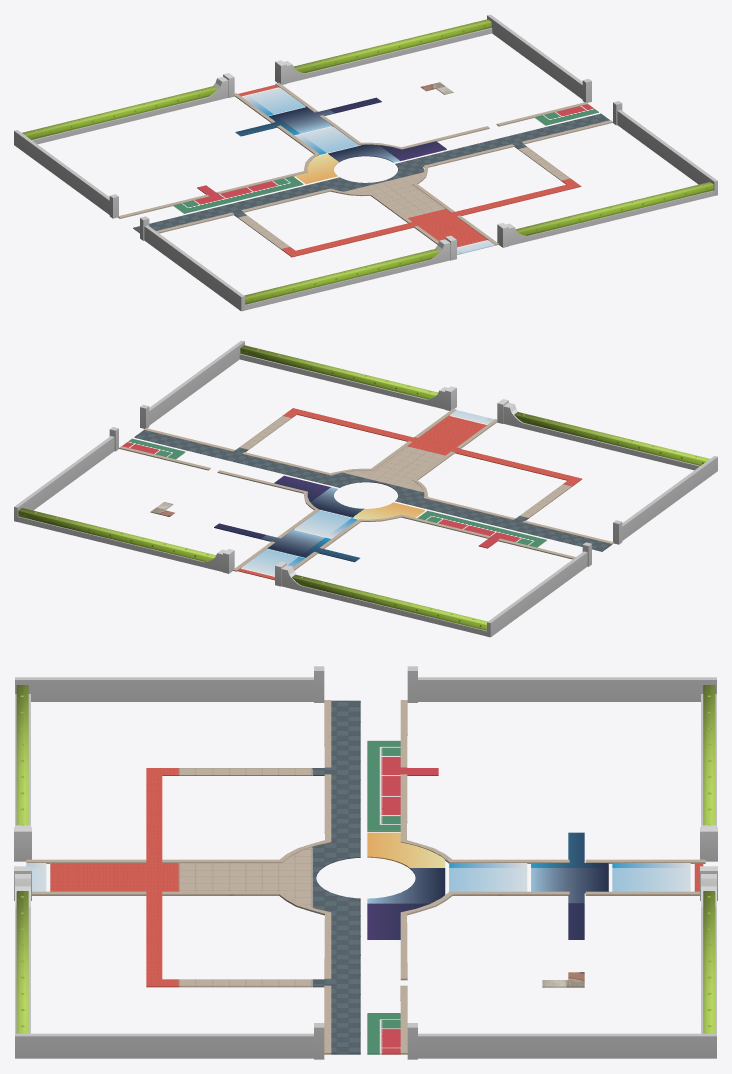
The model's file is Taman.fbx.
The picture shows the model from 3 angles, top to bottom: view 1: azimuth 30°, elevation 25°; view 2: azimuth 150°, elevation 25°; view 3: azimuth 270°, elevation 25°; orthographic projection. The views are drawn at different scales.
Visible parts, largest first — view 1: JalanSetapak, Plane.051, Plane.004, Plane.005, JalanSetapak2, Plane.015, Plane.007; view 2: JalanSetapak, Plane.051, Plane.004, Plane.005, JalanSetapak2, Plane.015, Plane.007; view 3: JalanSetapak, Plane.004, JalanSetapak2, Plane.051, Plane.005, Plane.015, Plane.007.
Boxes of the visible parts, box(x1,y1,x2,y2) form: JalanSetapak: box(133, 82, 609, 257); Plane.051: box(22, 19, 713, 304); Plane.004: box(14, 14, 717, 311); Plane.005: box(32, 28, 714, 310); JalanSetapak2: box(118, 83, 612, 245); Plane.015: box(223, 60, 508, 260); Plane.007: box(109, 78, 622, 240); JalanSetapak: box(122, 408, 611, 580); Plane.051: box(18, 345, 709, 630); Plane.004: box(14, 340, 717, 637); Plane.005: box(17, 354, 699, 636); JalanSetapak2: box(119, 409, 613, 571); Plane.015: box(223, 386, 508, 586); Plane.007: box(109, 404, 622, 566); JalanSetapak: box(26, 700, 703, 1054); Plane.004: box(15, 677, 716, 1058); JalanSetapak2: box(26, 700, 705, 1054); Plane.051: box(16, 685, 715, 1033); Plane.005: box(15, 694, 716, 1033); Plane.015: box(14, 827, 717, 900); Plane.007: box(314, 666, 417, 1059).
Size of the model in its own units: 12583 by 519 by 10367.
